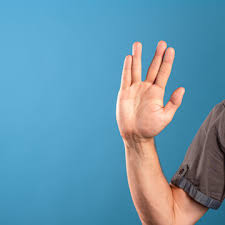LiveLong: (115, 40, 185, 141)
